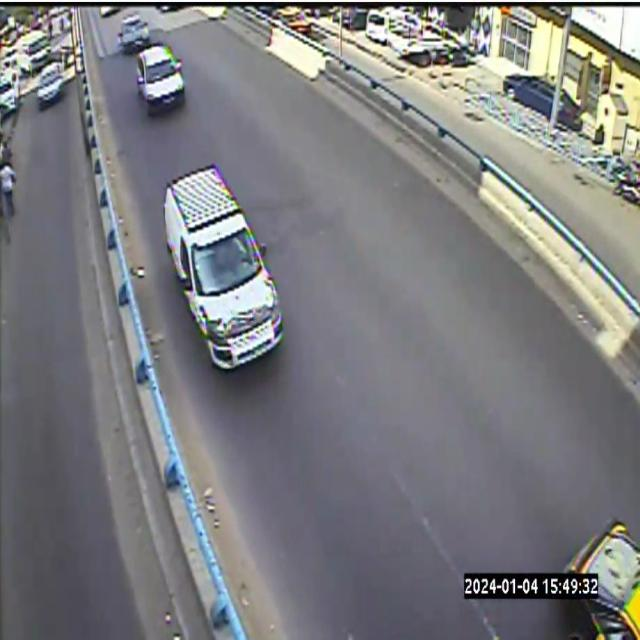car: (163, 165, 282, 369), (550, 521, 639, 639), (137, 45, 184, 113), (118, 14, 150, 52)
